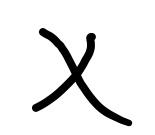mult: (30, 29, 131, 126)
